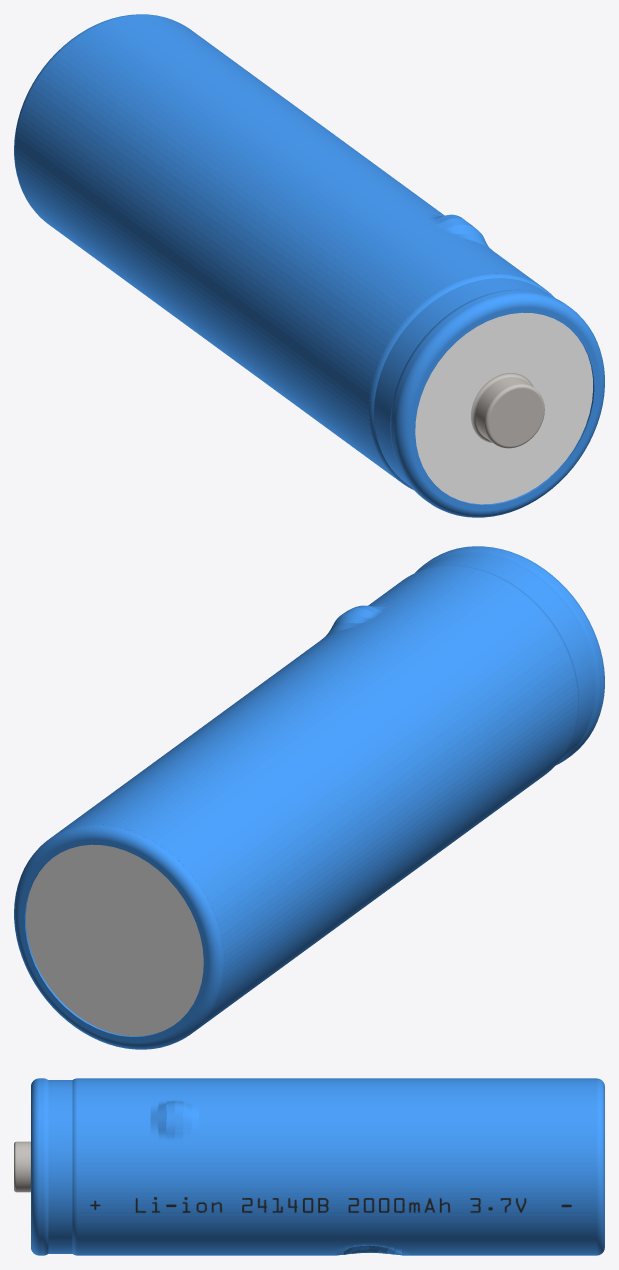
Rendered from defect_7.glb.
The picture shows the model from 3 angles, top to bottom: view 1: azimuth 30°, elevation 25°; view 2: azimuth 150°, elevation 25°; view 3: azimuth 270°, elevation 25°; orthographic projection. The views are drawn at different scales.
Parts seen in each view (by area): view 1: Cylinder, Cell_Top; view 2: Cylinder, Cell_bottom, Cell_Top; view 3: Cylinder, Cell_Top, Cell_bottom.
Part boxes in pixels (x1,y1,x2,y2): Cylinder: (15, 15, 550, 480); Cell_Top: (368, 273, 604, 517); Cylinder: (41, 566, 577, 1031); Cell_bottom: (14, 824, 224, 1049); Cell_Top: (415, 546, 604, 765); Cylinder: (77, 1078, 596, 1255); Cell_Top: (14, 1078, 77, 1255); Cell_bottom: (596, 1078, 604, 1255).
Bounding box in the file's own units: 0.021 × 0.021 × 0.07.
10 materials, 1 textured.
